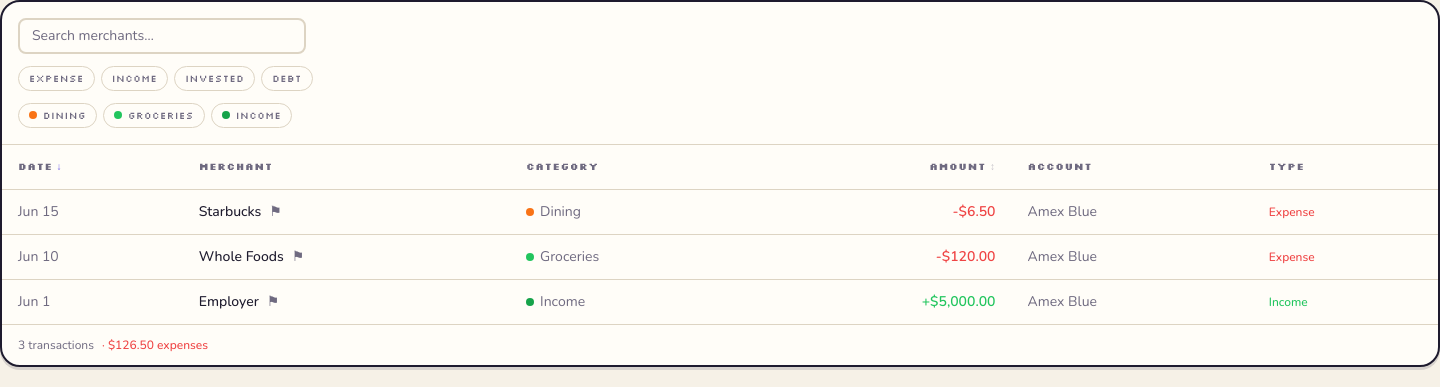
Test: TransactionTable — type filter › filters to income only when Income pill is clicked
// aria-label disambiguates the type pill from the category chip with the same text
Click the button with aria-label "Filter by type: Income" at [135, 78], box [101,66,168,91]
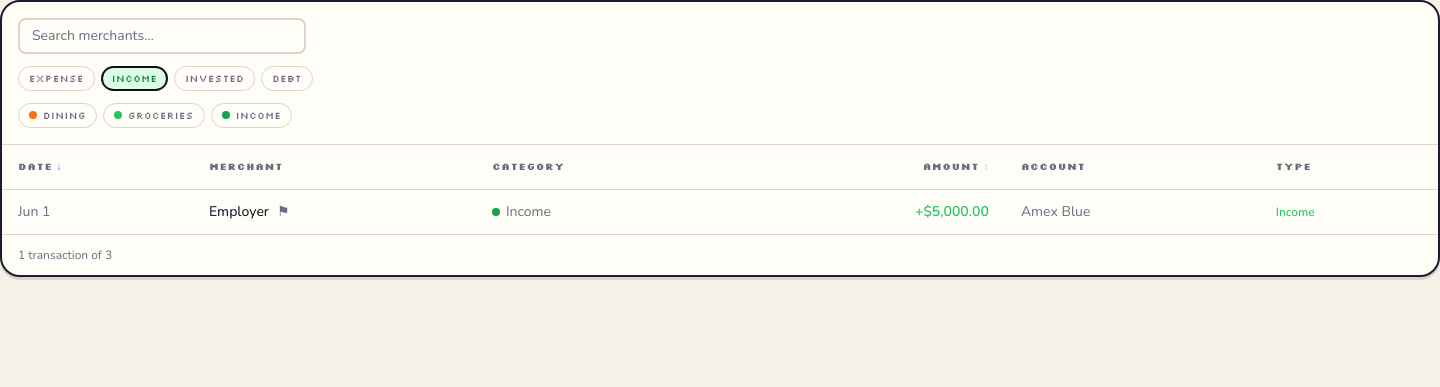
Check: the text "Employer" is shown, box [209,202,269,222]
Check: the text "Starbucks" is gone
